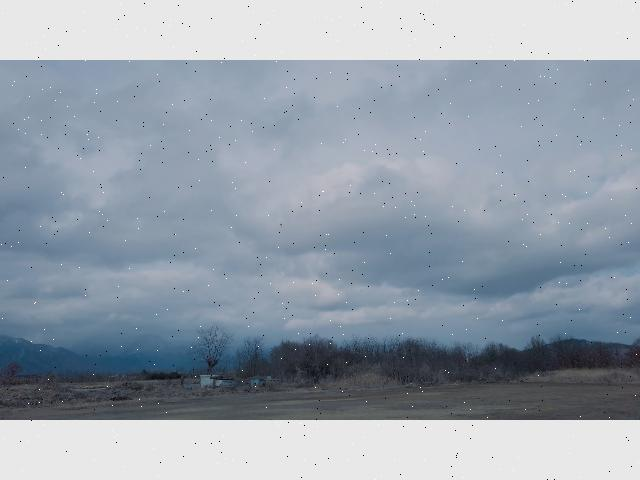Anti-Drone: (276, 218, 286, 230)
